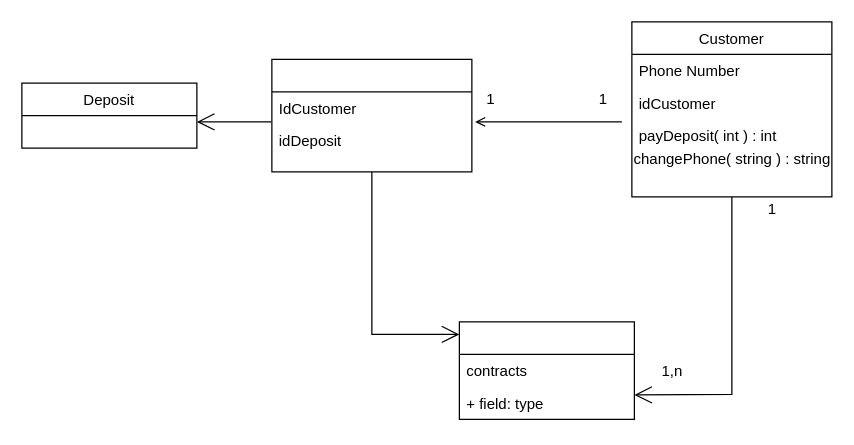
This 854x445 diagram has some shape labels left out. Each missing label, with the box of its shape:
Account: (271, 58, 472, 172)
Record: (458, 321, 634, 419)
